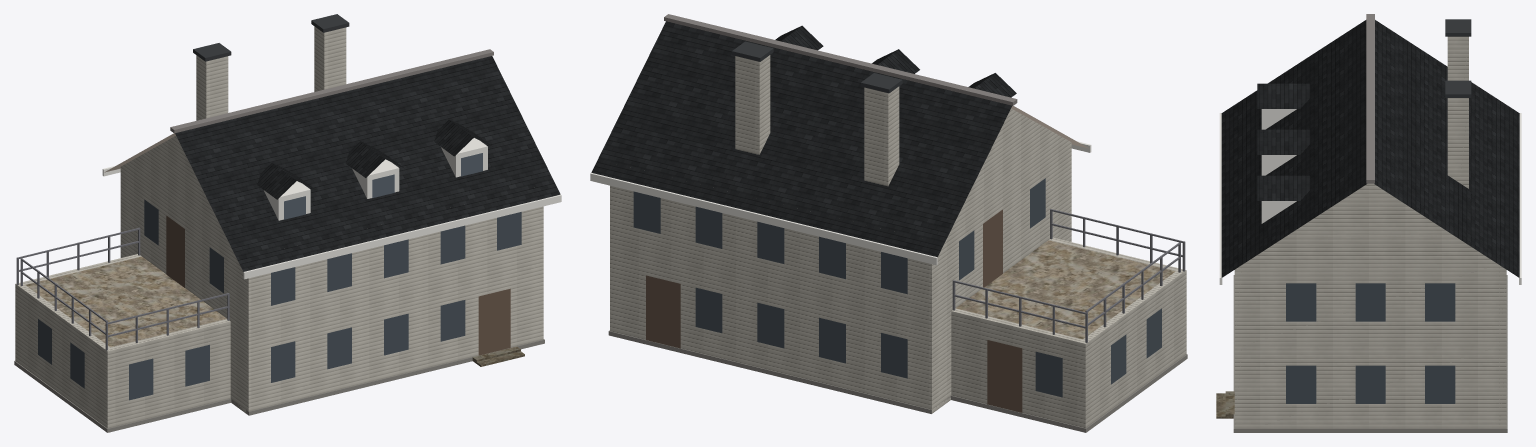
The model's file is ns-colonial.towns-v1.lod1.glb.
The picture shows the model from 3 angles, left to right: view 1: azimuth 30°, elevation 25°; view 2: azimuth 150°, elevation 25°; view 3: azimuth 270°, elevation 25°; orthographic projection. The views are drawn at different scales.
Visible parts, largest first — view 1: ns-colonial; view 2: ns-colonial; view 3: ns-colonial.
Part boxes in pixels (box(x1,y1,x2,y2)): ns-colonial: box(14, 14, 561, 432); ns-colonial: box(590, 14, 1187, 432); ns-colonial: box(1216, 14, 1521, 432).
Size of the model in its own units: 17.53 by 10.54 by 10.09.
Materials: 4 (3 with a texture image).
